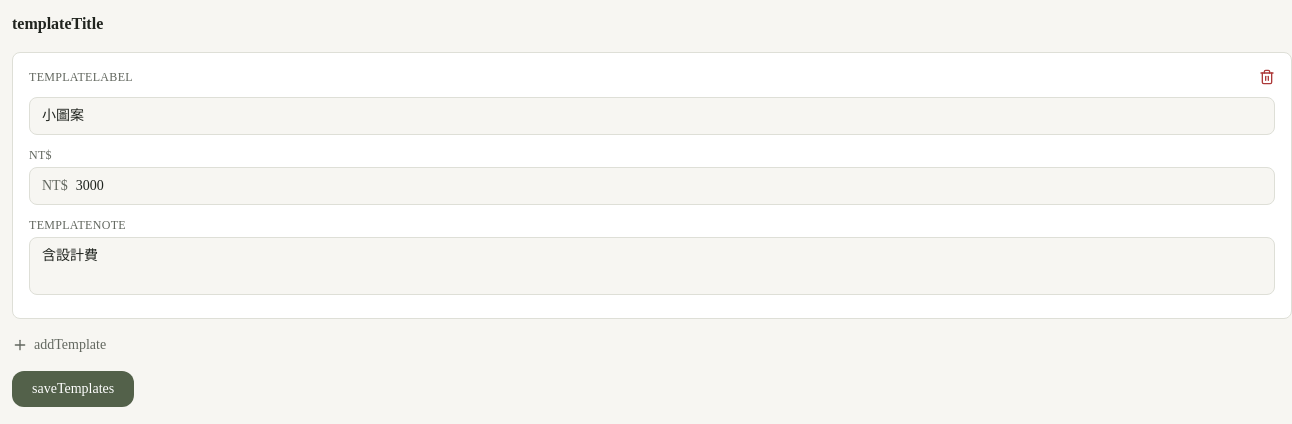
QuoteTemplateManager › deleting last template shows empty state
The width and height of the screenshot is (1292, 424).
Click the button named "刪除模板" at (1267, 77), box [1259,69,1275,85]
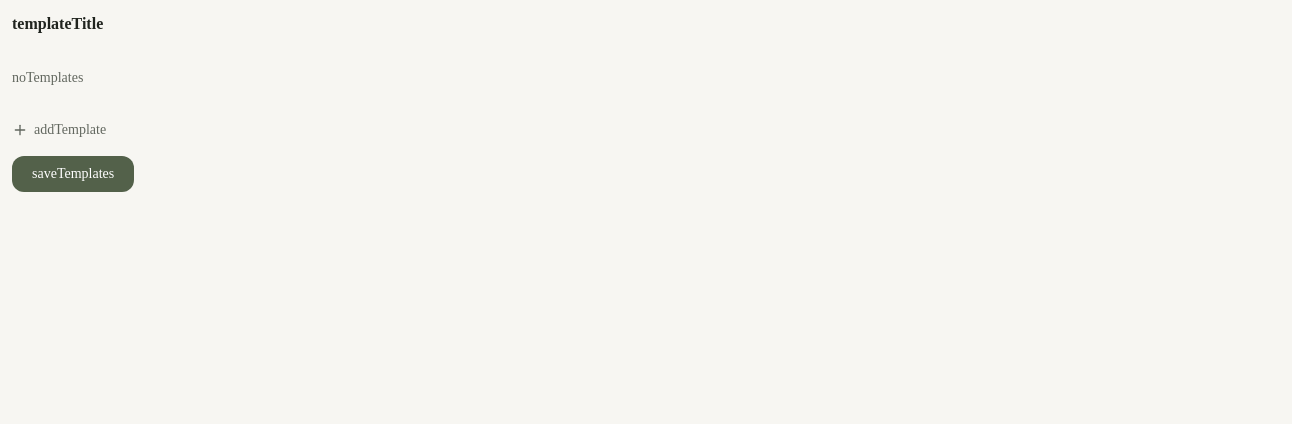
Now the text "noTemplates" is shown, box [12,70,83,85]
